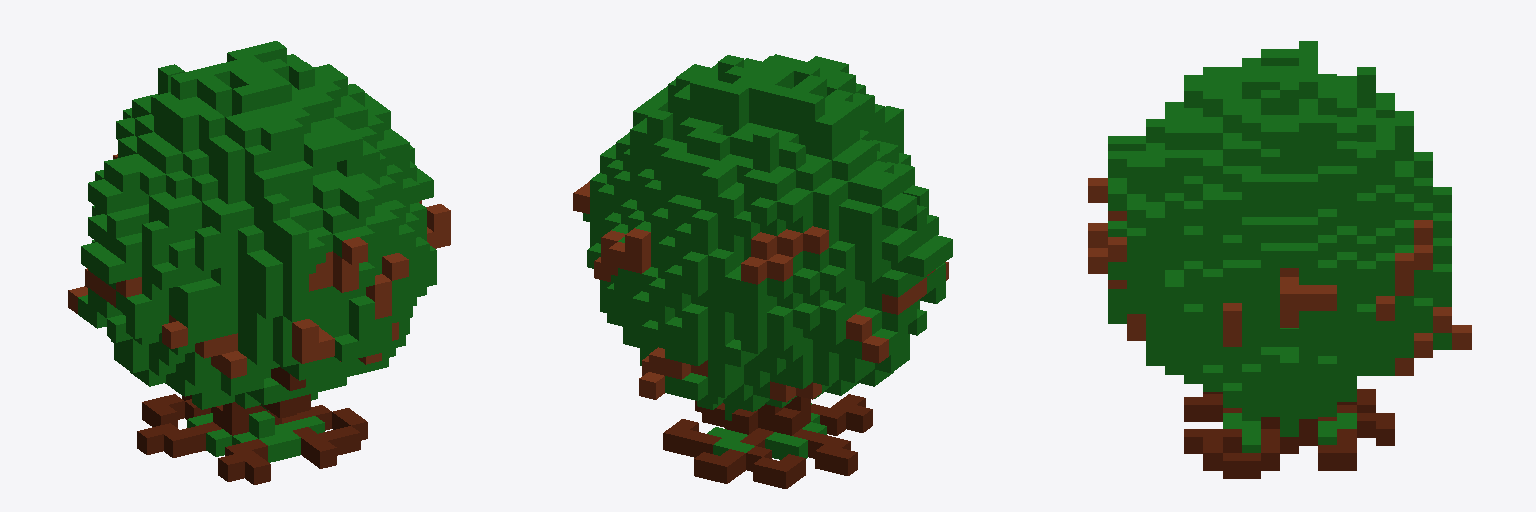
3 views of the same model, side by side, from view 1: azimuth 30°, elevation 25°; view 2: azimuth 150°, elevation 25°; view 3: azimuth 270°, elevation 25° (orthographic).
Parts seen in each view (by area): view 1: object 1; view 2: object 1; view 3: object 1.
Part boxes in pixels (bbox=[...]): object 1: bbox=[68, 41, 450, 484]; object 1: bbox=[573, 54, 952, 488]; object 1: bbox=[1088, 41, 1471, 478].
Size of the model in its own units: 2 by 2.1 by 2.
1 materials, 1 textured.